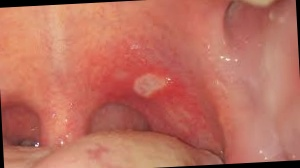Ulcer: (130, 68, 172, 98)
